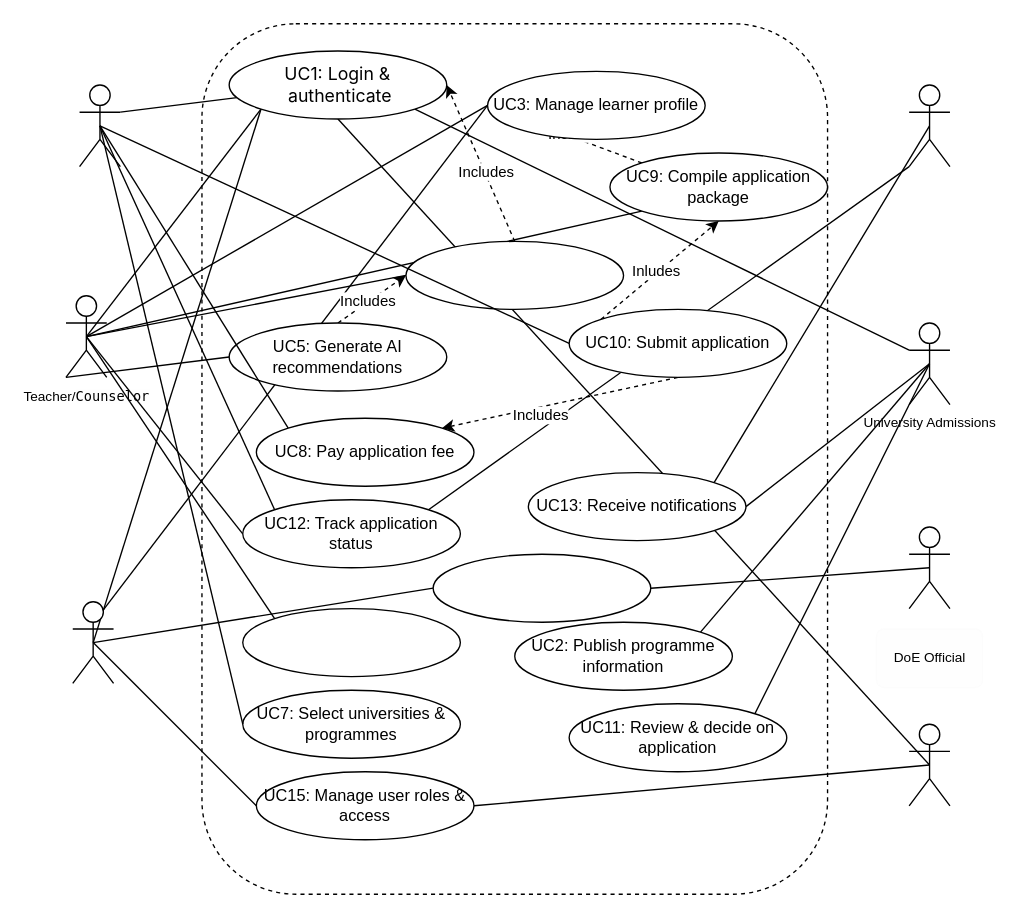
This 1019x918 diagram has some shape labels left out. Here are the shapes that lost their labels. From the top down, the centre of each, then its label:
pixel 99 125: Learner
pixel 929 125: Parent/Guardian
pixel 514 274: UC4: Import learner marks via CSV
pixel 541 587: UC14: View anonymized analytics
pixel 92 641: School Administrator
pixel 350 642: UC6: Conduct guidance session
pixel 929 764: IT support
